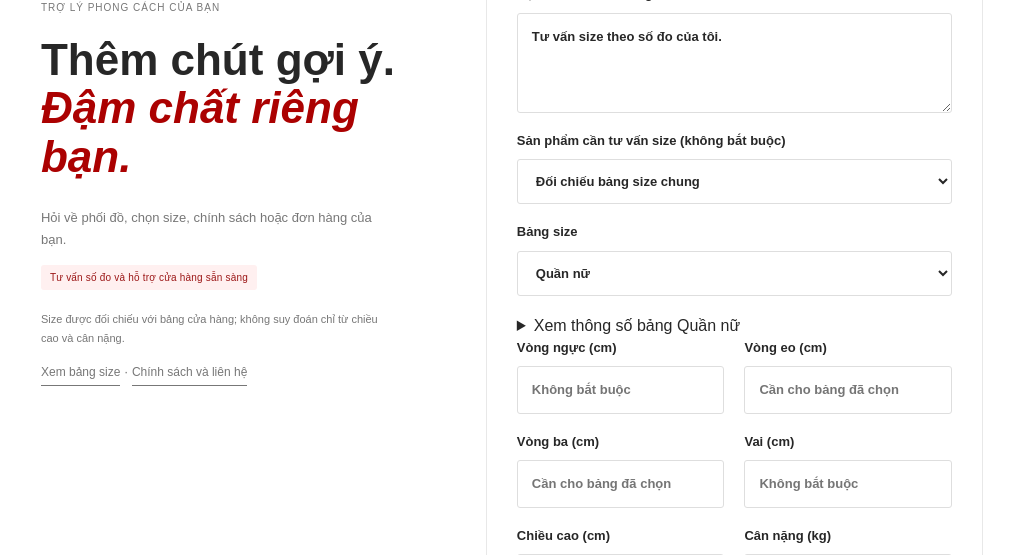
it: sends body measurements with the Vòng ba label and requires opt-in for Gemini
In the number field labelled "Vòng eo (cm)": (848, 390) [744,366,952,414], type "67"
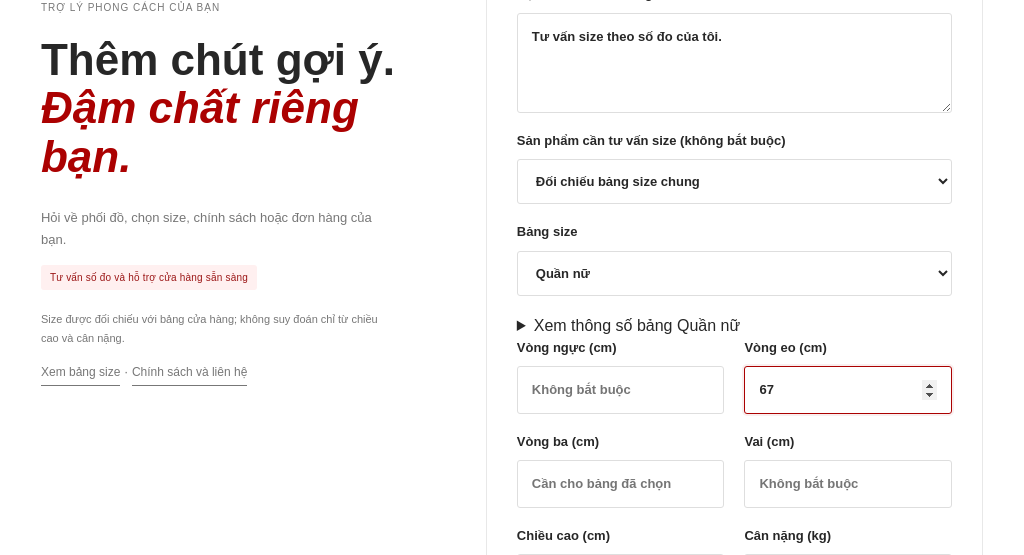
In the number field labelled "Vòng ba (cm)": (621, 484) [517,460,724,508], type "92"
(page scrolled)
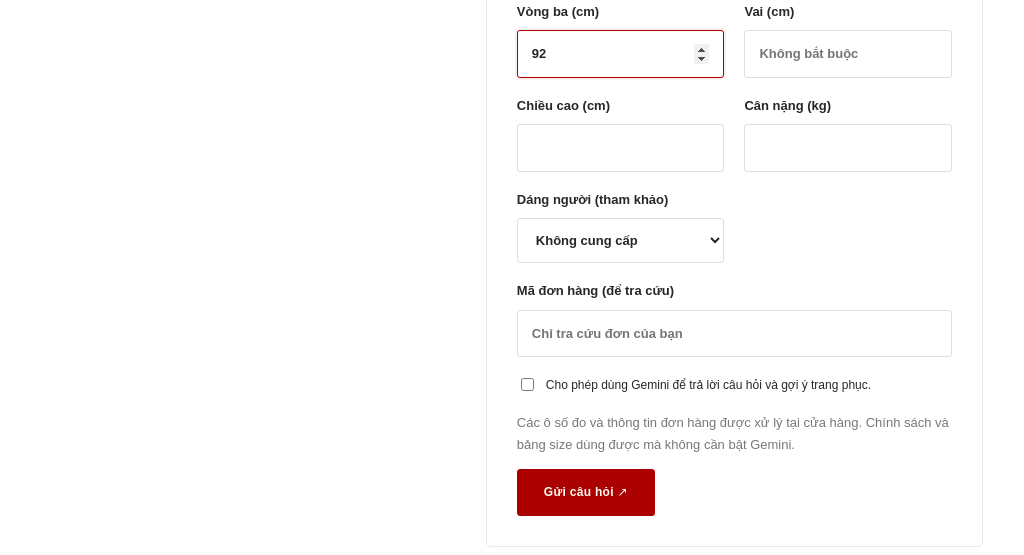
Click the button "Gửi câu hỏi ↗": (586, 493) [517,469,655,516]
(page scrolled)
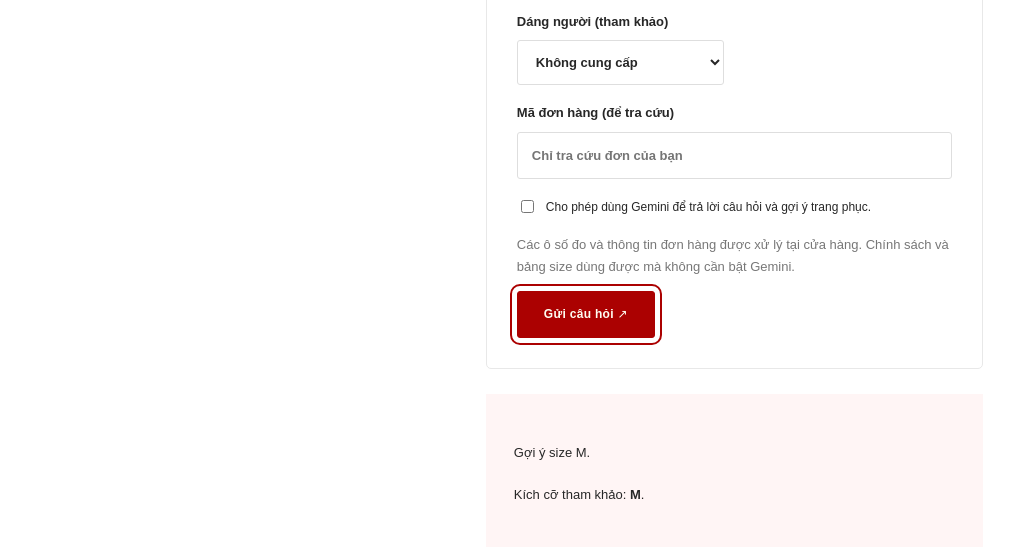
expect the text "Gợi ý size M." is shown: met, box [514,445,590,460]
